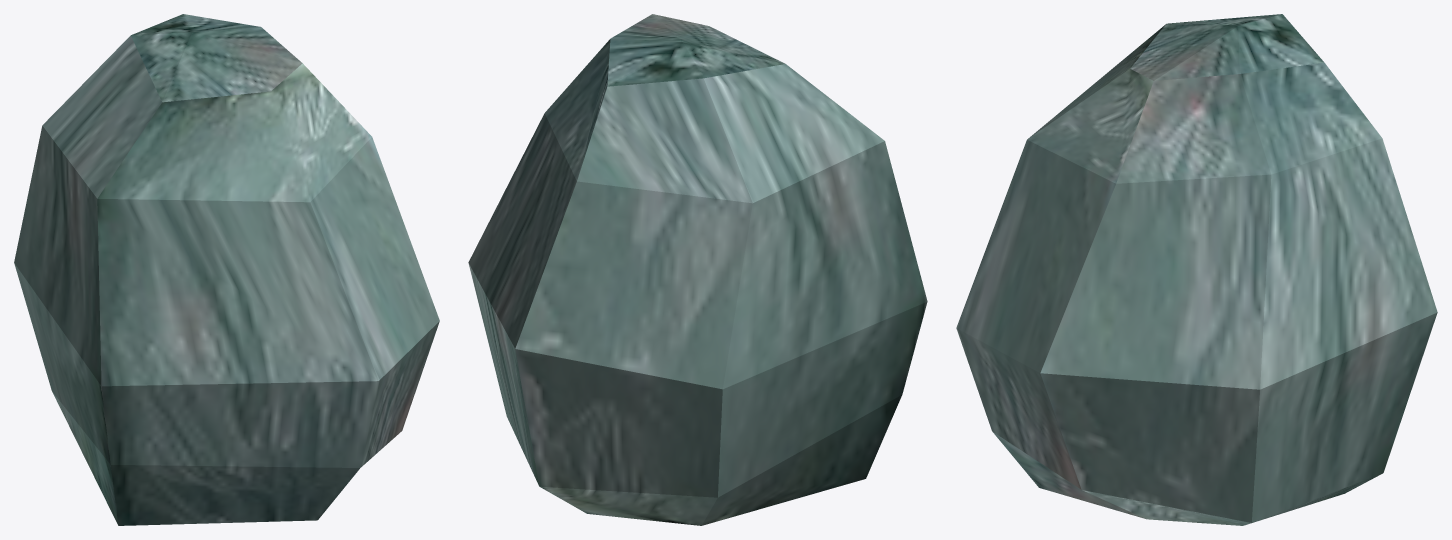
File: Trashbag02.obj
3 renders of one model, left to right at view 1: azimuth 30°, elevation 25°; view 2: azimuth 150°, elevation 25°; view 3: azimuth 270°, elevation 25°, orthographic. The views are drawn at different scales.
Visible parts, largest first — view 1: Trashbag02; view 2: Trashbag02; view 3: Trashbag02.
Boxes of the visible parts, bbox=[...] form: Trashbag02: bbox=[14, 14, 439, 525]; Trashbag02: bbox=[468, 14, 927, 525]; Trashbag02: bbox=[956, 14, 1437, 525].
Size of the model in its own units: 1.35 by 1.53 by 1.49.
